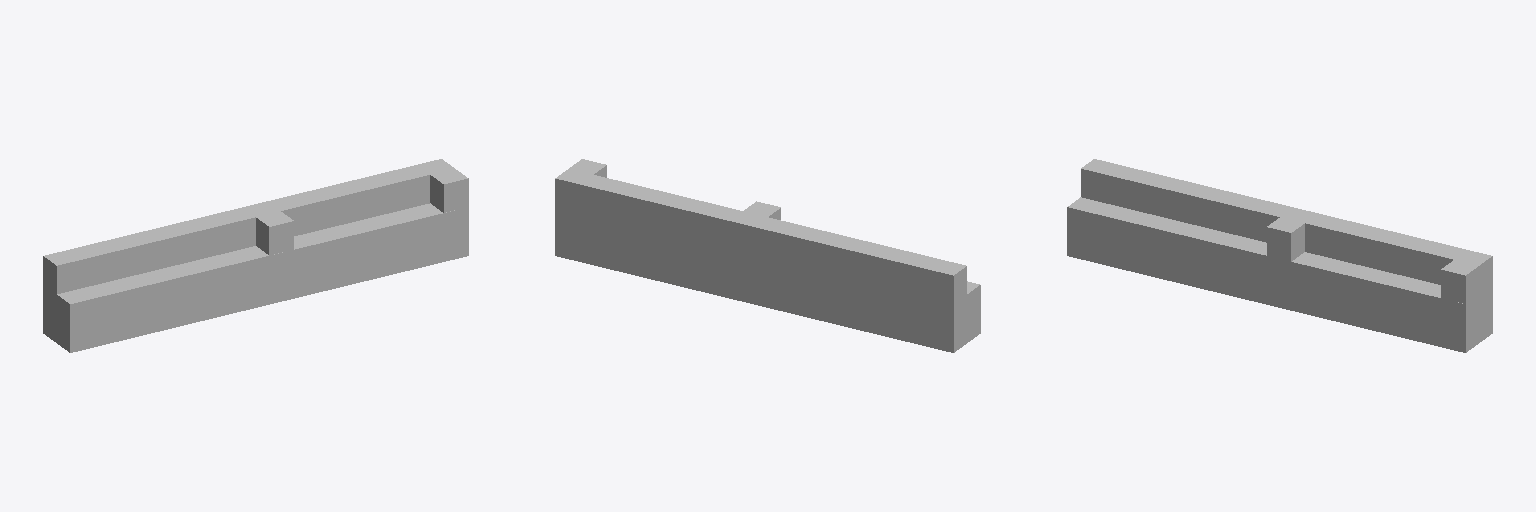
Rendered from building5.obj.
3 views of the same model, side by side, from view 1: azimuth 30°, elevation 25°; view 2: azimuth 150°, elevation 25°; view 3: azimuth 330°, elevation 25° (orthographic).
Visible parts, largest first — view 1: Cube.004; view 2: Cube.004; view 3: Cube.004.
Boxes of the visible parts, box(x1,y1,x2,y2) form: Cube.004: box(43, 159, 468, 352); Cube.004: box(555, 159, 980, 352); Cube.004: box(1067, 159, 1492, 352).
Size of the model in its own units: 17.04 by 3.17 by 2.